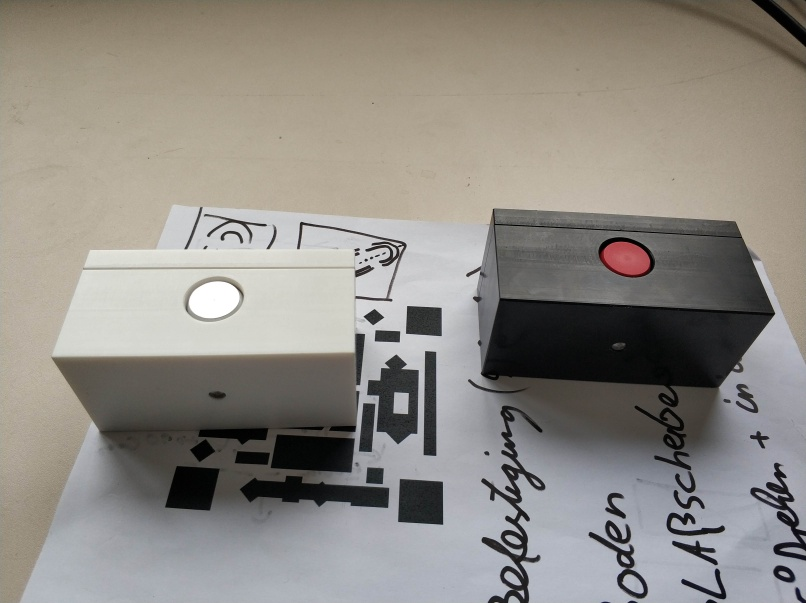black+black+red: (473, 205, 779, 390)
white+white+silver: (48, 245, 360, 434)
